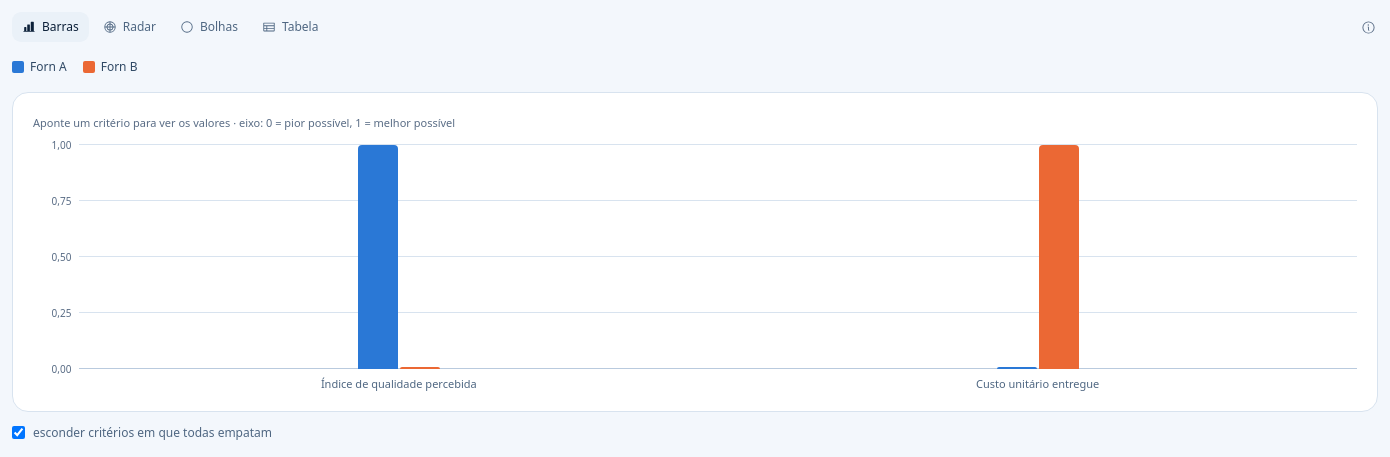
Scenario: eixo e rotulos › apontar um criterio troca a instrucao pelos valores daquele criterio
Hover over the text "Custo unitário entregue".
mouse_move(1038, 384)  # box [976,376,1099,391]
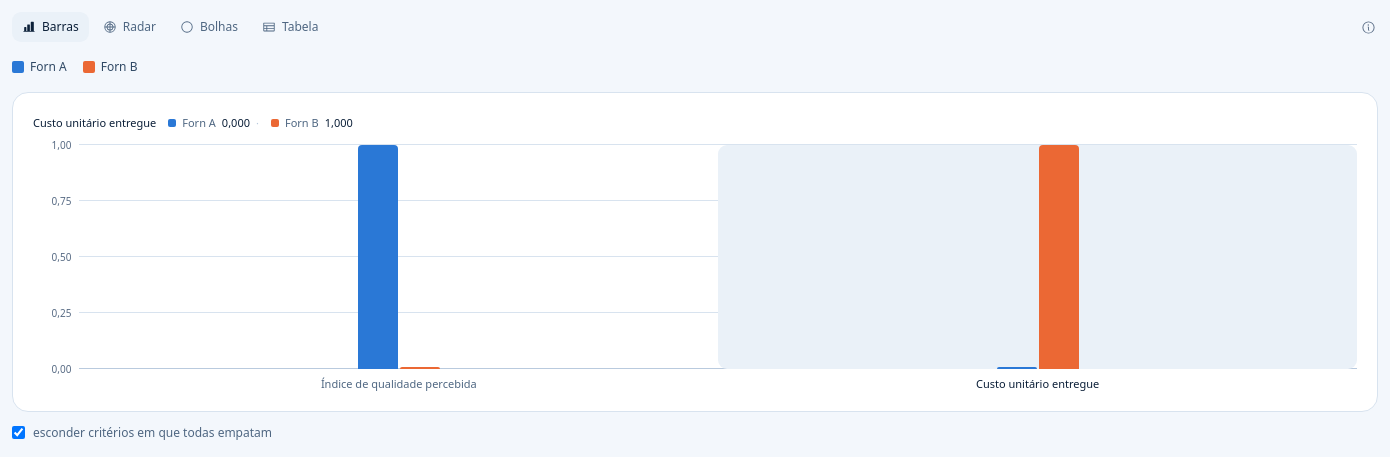
Check: the text "0 = pior possível" is gone
Check: the text "0,000" is shown, box [222,115,250,131]
Check: the text "1,000" is shown, box [325,115,353,131]
